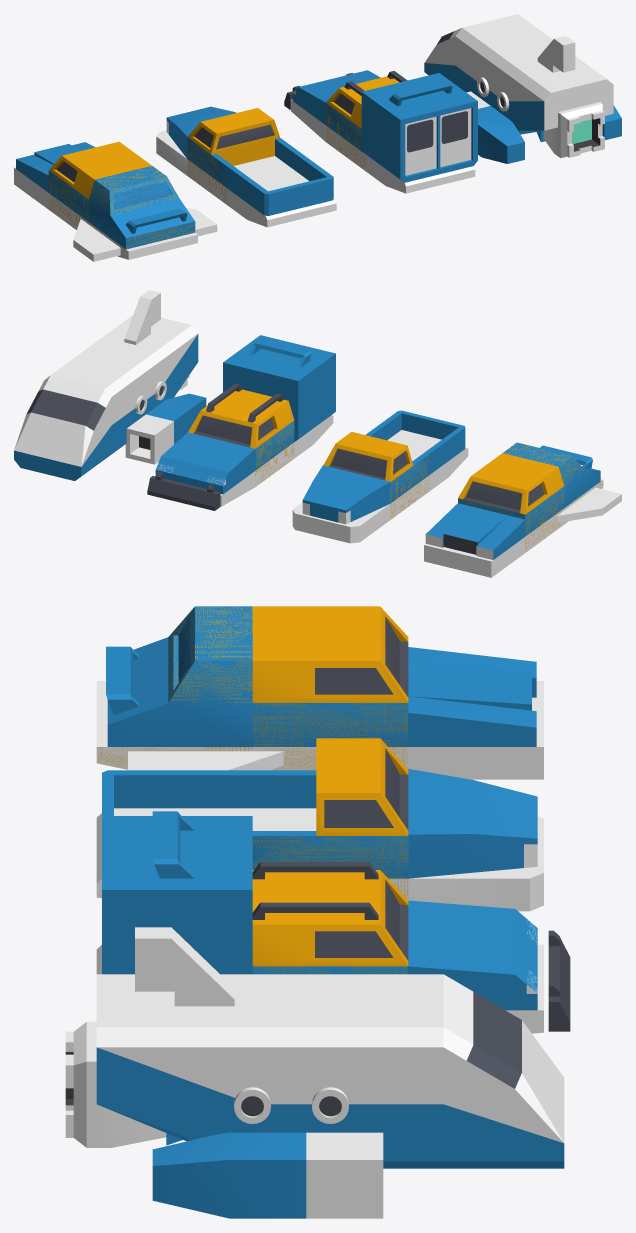
3 renders of one model, top to bottom at view 1: azimuth 30°, elevation 25°; view 2: azimuth 150°, elevation 25°; view 3: azimuth 270°, elevation 25°, orthographic. The views are drawn at different scales.
Size of the model in its own units: 7.81 by 1.6 by 3.24.
